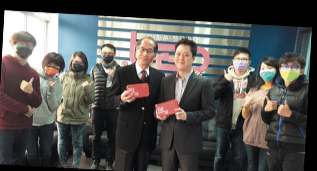with_mask: (277, 62, 300, 83), (12, 39, 32, 61), (257, 64, 275, 83), (232, 55, 248, 72), (41, 61, 57, 77), (69, 58, 84, 74), (100, 50, 112, 65)
without_mask: (171, 50, 192, 71), (136, 44, 153, 64)
